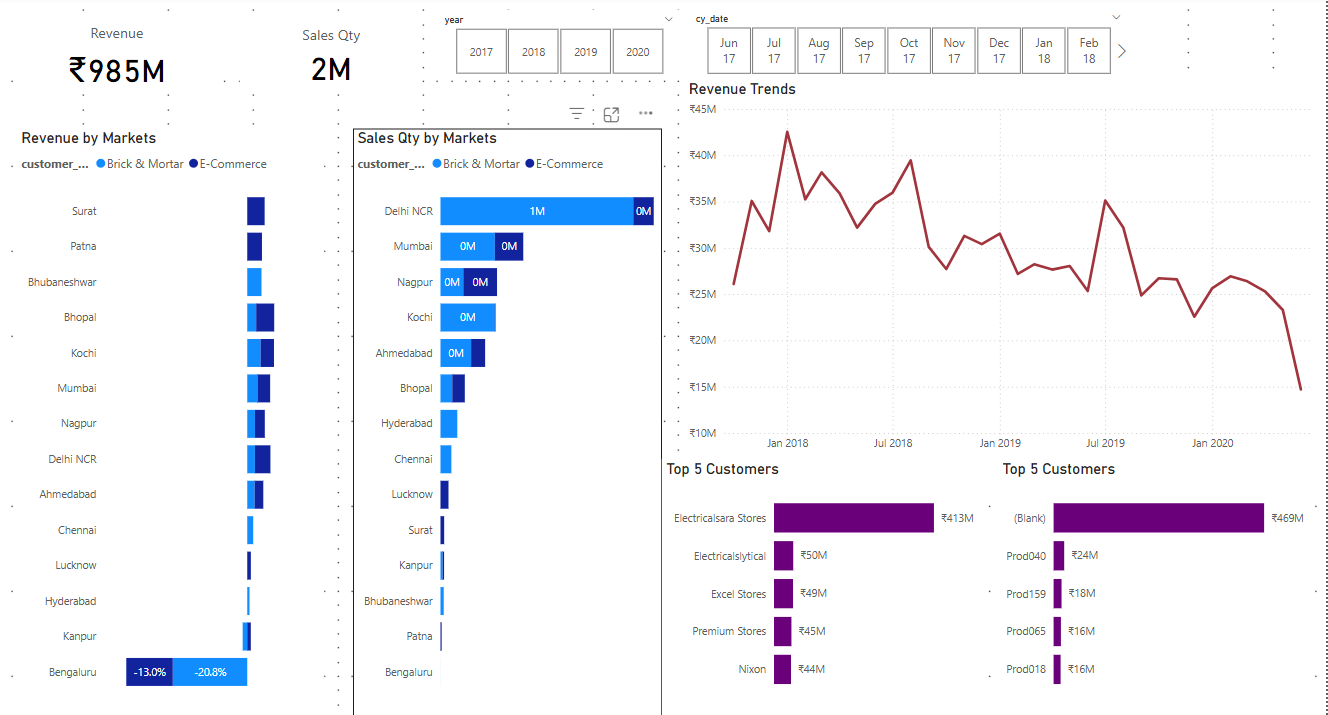

This screenshot's page, from the dashboard's own definition file:
{"tool":"powerbi","page":{"name":"Key Insights","canvas":[1500,815],"ordinal":0},"visuals":[{"type":"textbox","box":[78,336,299,301],"z":0},{"type":"cardVisual","fields":{"Data":["BaseMeasures.Revenue"]},"box":[21.2,18.4,227.3,103.1],"z":1000},{"type":"cardVisual","fields":{"Data":["BaseMeasures.Sales Qty"]},"box":[268.2,19.8,217.4,103.1],"z":2000},{"type":"barChart","title":"Revenue by Markets","fields":{"Category":["sales markets.markets_name"],"Y":["BaseMeasures.Profit Margin %"],"Series":["sales customers.customer_type"]},"box":[21.2,149.6,347.3,664.9],"z":3000},{"type":"barChart","title":"Sales Qty by Markets","fields":{"Y":["BaseMeasures.Sales Qty"],"Category":["sales markets.markets_name"],"Series":["sales customers.customer_type"]},"box":[400.9,149.6,348.7,664.9],"z":4000},{"type":"slicer","fields":{"Values":["sales date.year"]},"box":[491.3,15.5,283.8,79.1],"z":5000},{"type":"slicer","fields":{"Values":["sales date.cy_date"]},"box":[775.1,14.1,505.4,80.5],"z":6000},{"type":"barChart","title":"Top 5 Customers","fields":{"Y":["BaseMeasures.Revenue"],"Category":["sales customers.custmer_name"]},"box":[749.6,523.8,364.2,290.8],"z":7000},{"type":"barChart","title":"Top 5 Customers","fields":{"Y":["BaseMeasures.Revenue"],"Category":["sales products.product_code"]},"box":[1129.4,523.8,354.4,290.8],"z":8000},{"type":"lineChart","title":"Revenue Trends","fields":{"Category":["sales date.cy_date"],"Y":["BaseMeasures.Revenue"]},"box":[775.1,94.6,725.6,429.2],"z":9000}]}

Visuals, with their boxes in screenshot pixels (x1, y1, x2, y2), scaled from the page's 1500x815 canvas onto the 1328x715 screenshot:
textbox: left=69, top=295, right=334, bottom=559
cardVisual - BaseMeasures.Revenue: left=19, top=16, right=220, bottom=107
cardVisual - BaseMeasures.Sales Qty: left=237, top=17, right=430, bottom=108
"Revenue by Markets" barChart: left=19, top=131, right=326, bottom=714
"Sales Qty by Markets" barChart: left=355, top=131, right=664, bottom=714
slicer - sales date.year: left=435, top=14, right=686, bottom=83
slicer - sales date.cy_date: left=686, top=12, right=1134, bottom=83
"Top 5 Customers" barChart: left=664, top=460, right=986, bottom=714
"Top 5 Customers" barChart: left=1000, top=460, right=1314, bottom=714
"Revenue Trends" lineChart: left=686, top=83, right=1327, bottom=460
